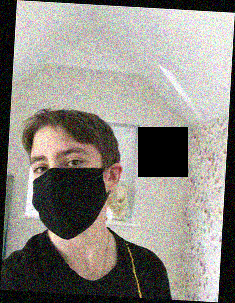with_mask: (27, 136, 109, 241)
